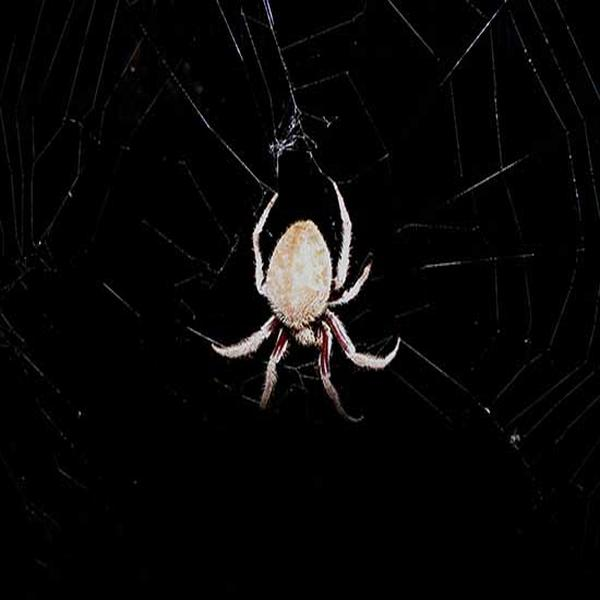Garden Orb Weaver Spider: (221, 180, 400, 425)
